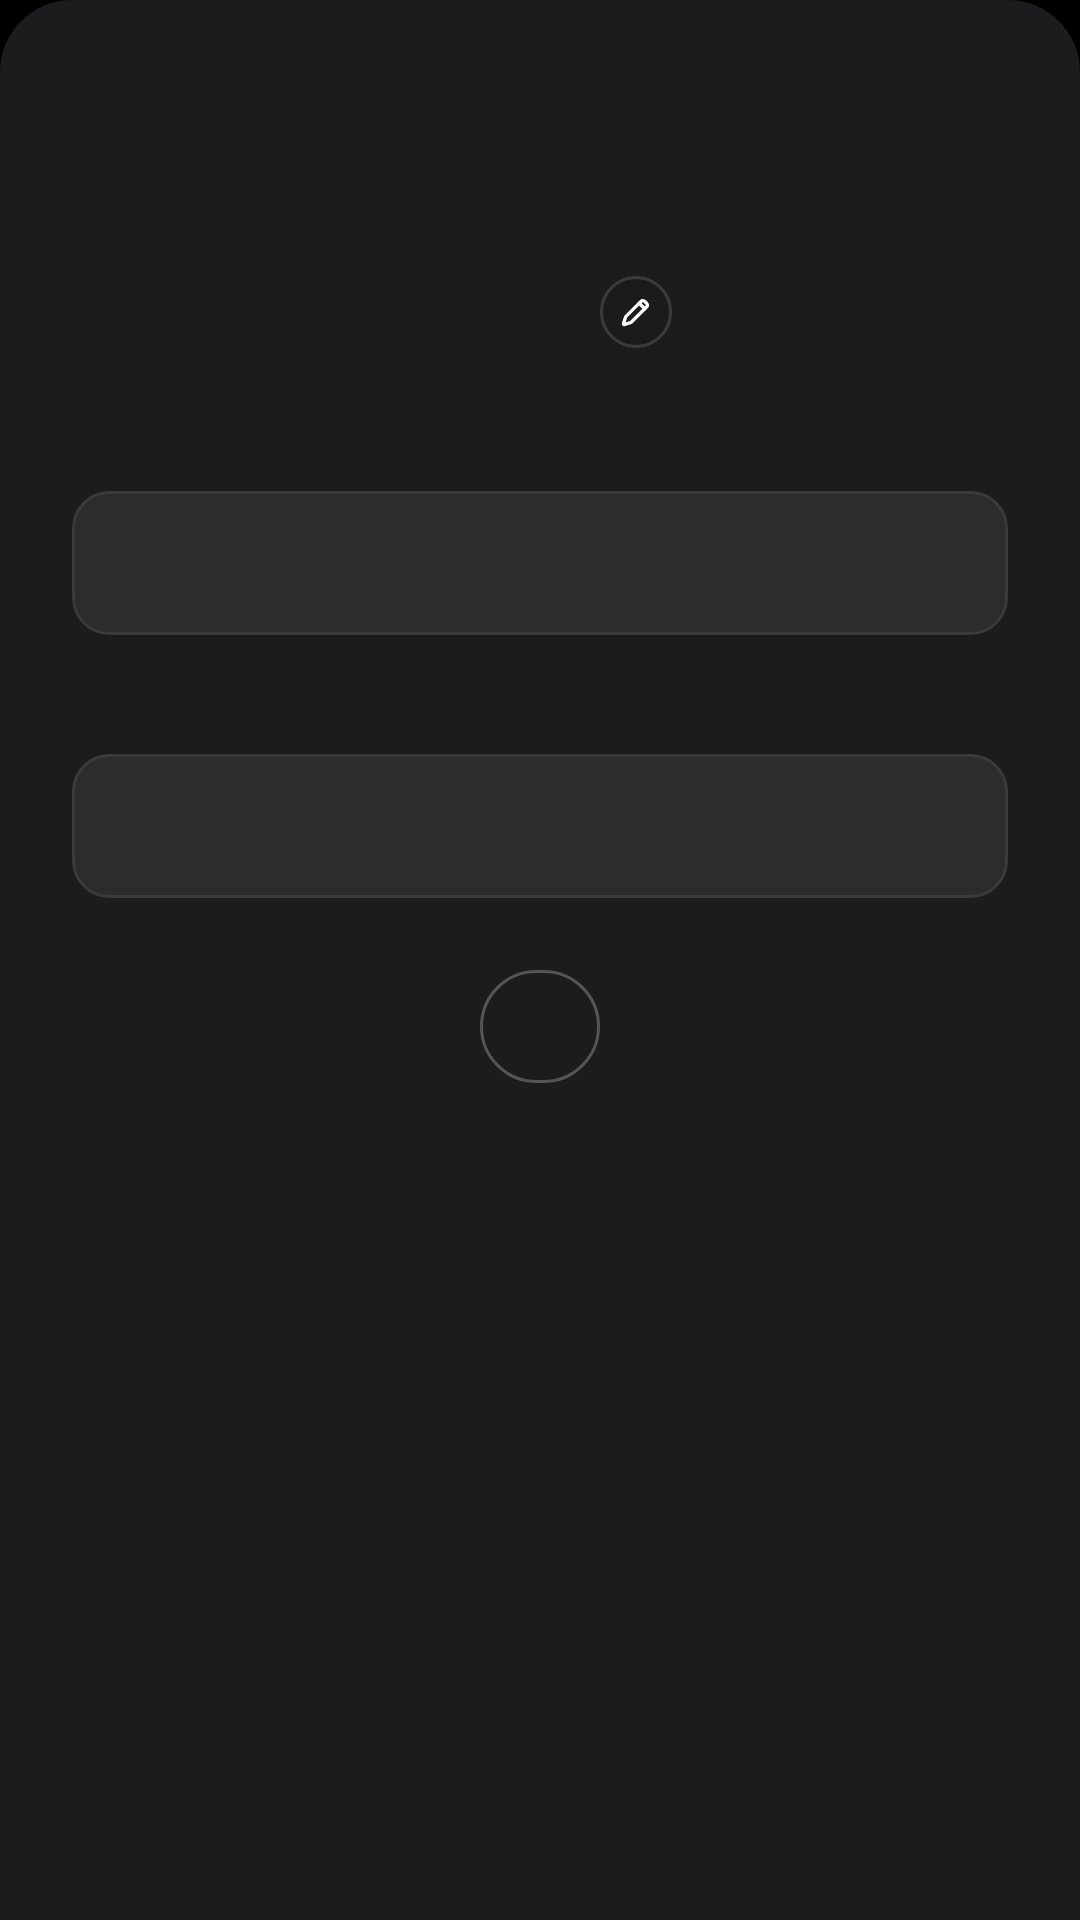

Icon click points for this 1080 x 1920 phone screenshot, format [x,y]:
pen: [635,313]
